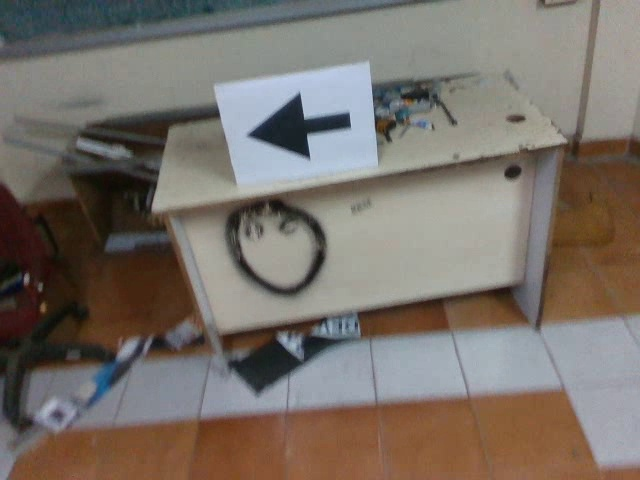Left: (235, 89, 357, 165)
